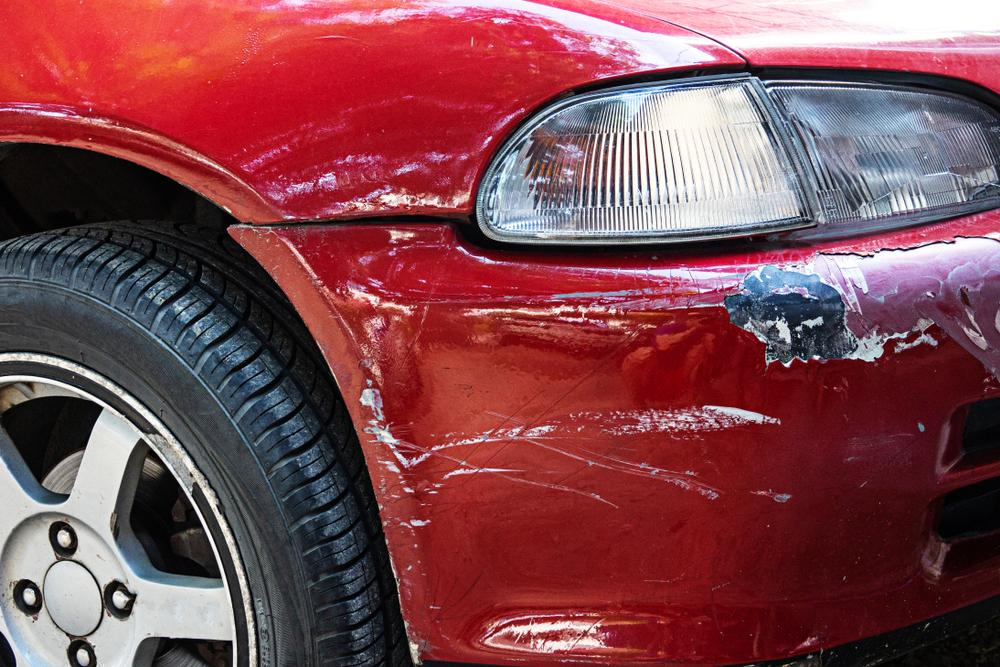scratch: (354, 374, 784, 561), (720, 233, 1000, 379)
